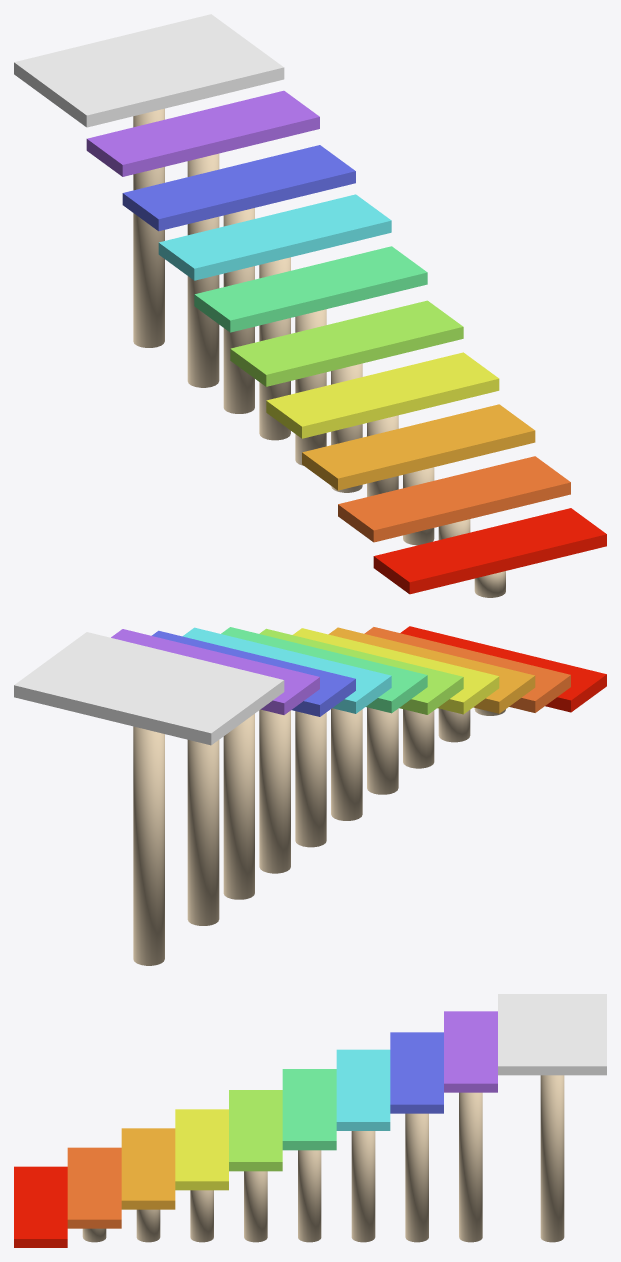
The model's file is Cat Tower.fbx.
3 renders of one model, top to bottom at view 1: azimuth 30°, elevation 25°; view 2: azimuth 150°, elevation 25°; view 3: azimuth 270°, elevation 25°, orthographic. The views are drawn at different scales.
Parts seen in each view (by area): view 1: Cat Tower; view 2: Cat Tower; view 3: Cat Tower.
Boxes of the visible parts, x1,y1,x2,y2 form: Cat Tower: [14, 14, 606, 597]; Cat Tower: [14, 626, 606, 965]; Cat Tower: [14, 994, 606, 1247].
Size of the model in its own units: 20.64 by 27.65 by 71.69.
